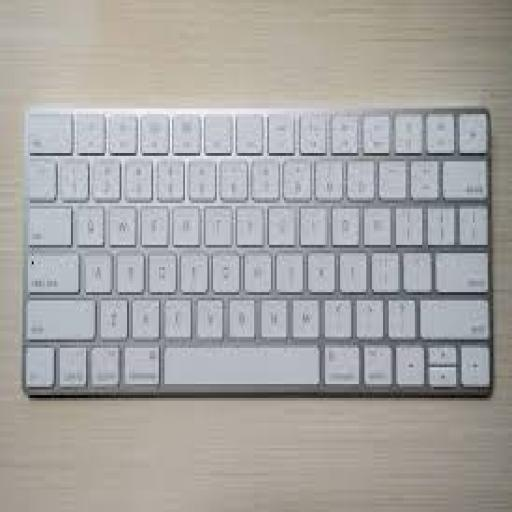KEYBOARD-2: (21, 109, 493, 395)
